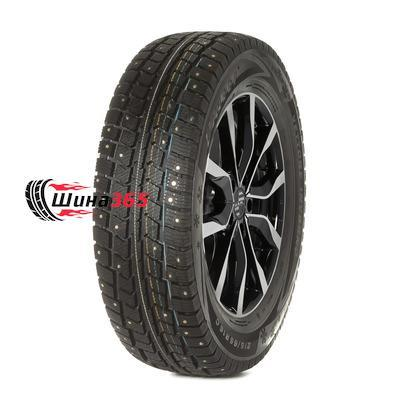objects: (24, 176, 155, 224)
